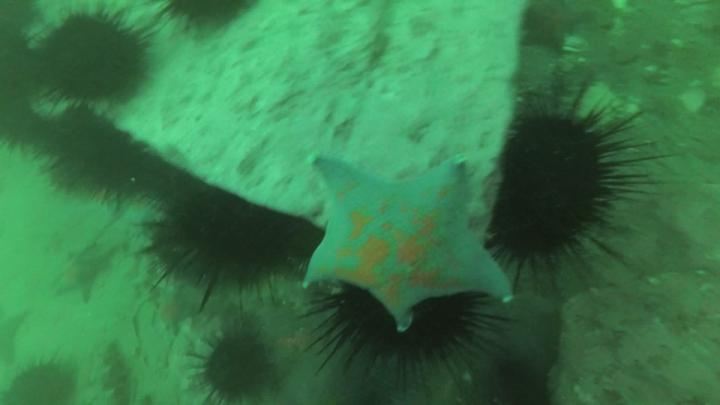echinus: (497, 115, 612, 249), (158, 190, 293, 280), (326, 290, 476, 361), (39, 17, 146, 99), (54, 127, 150, 198), (200, 340, 267, 398), (485, 361, 551, 405), (1, 32, 39, 101), (12, 363, 73, 405), (5, 108, 45, 144)
holothurian: (89, 346, 128, 405)
starfish: (296, 150, 516, 332), (522, 1, 581, 53), (60, 248, 114, 303), (157, 288, 195, 334)
